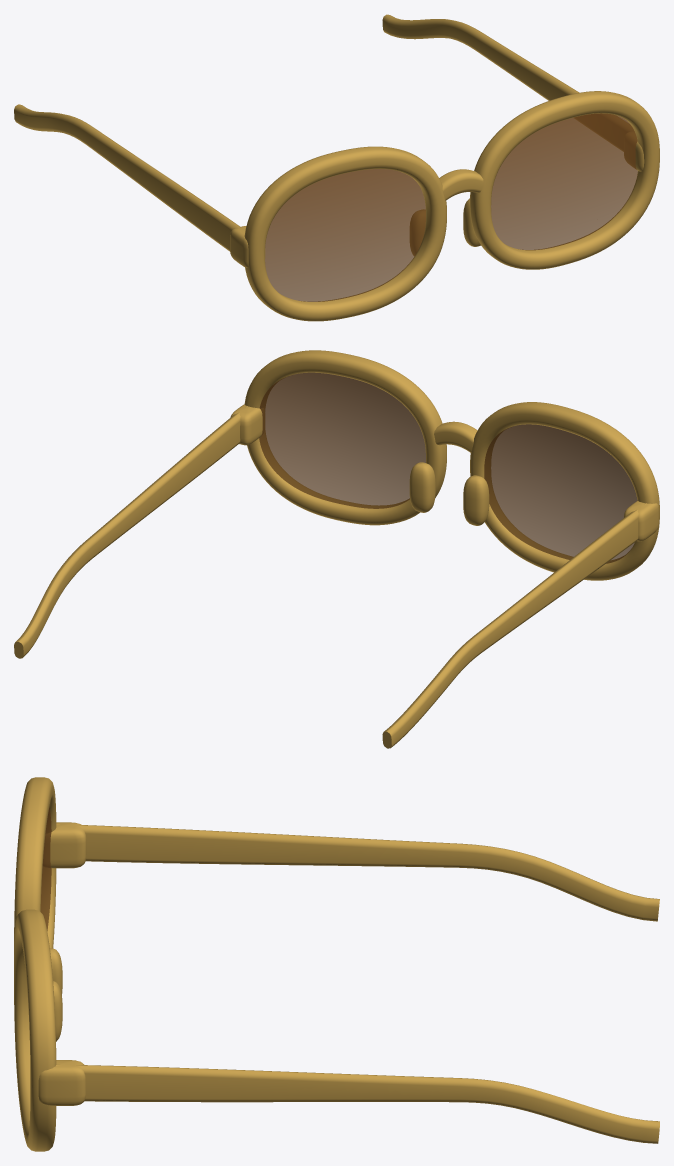
The model's file is TO-OVL-03.glb.
The picture shows the model from 3 angles, top to bottom: view 1: azimuth 30°, elevation 25°; view 2: azimuth 150°, elevation 25°; view 3: azimuth 270°, elevation 25°; orthographic projection. The views are drawn at different scales.
Visible parts, largest first — view 1: frame, lenses; view 2: frame, lenses; view 3: frame, lenses.
Part boxes in pixels (<box>): frame: <box>14,14,659,321</box>; lenses: <box>265,113,637,301</box>; frame: <box>14,350,659,748</box>; lenses: <box>259,372,637,563</box>; frame: <box>14,777,659,1151</box>; lenses: <box>40,807,51,930</box>.
Size of the model in its own units: 0.1361 by 0.0512 by 0.1484.
